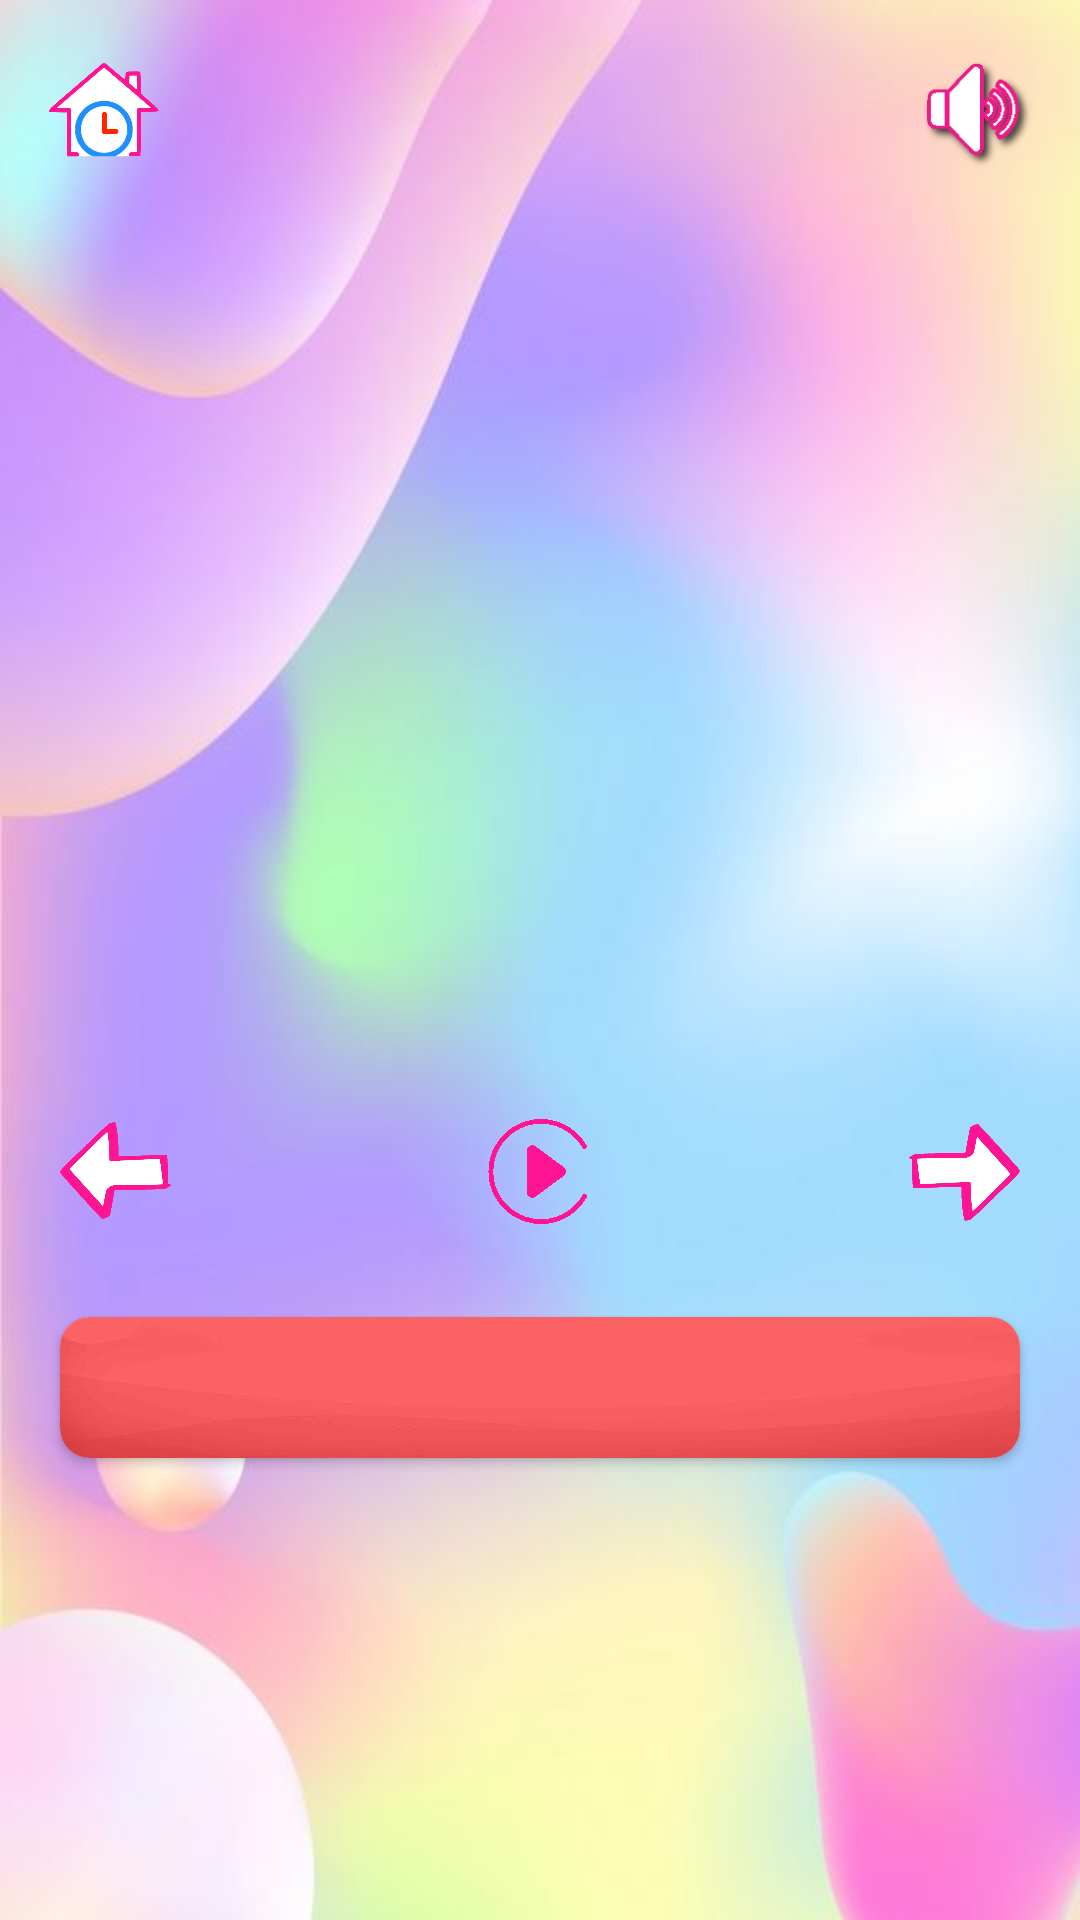

Point at icon controls on the screen. Image size 1080×1920, points as point (x, y).
back question: point (115, 1170)
next question: point (964, 1172)
play again: point (536, 1171)
sound on: point (976, 113)
